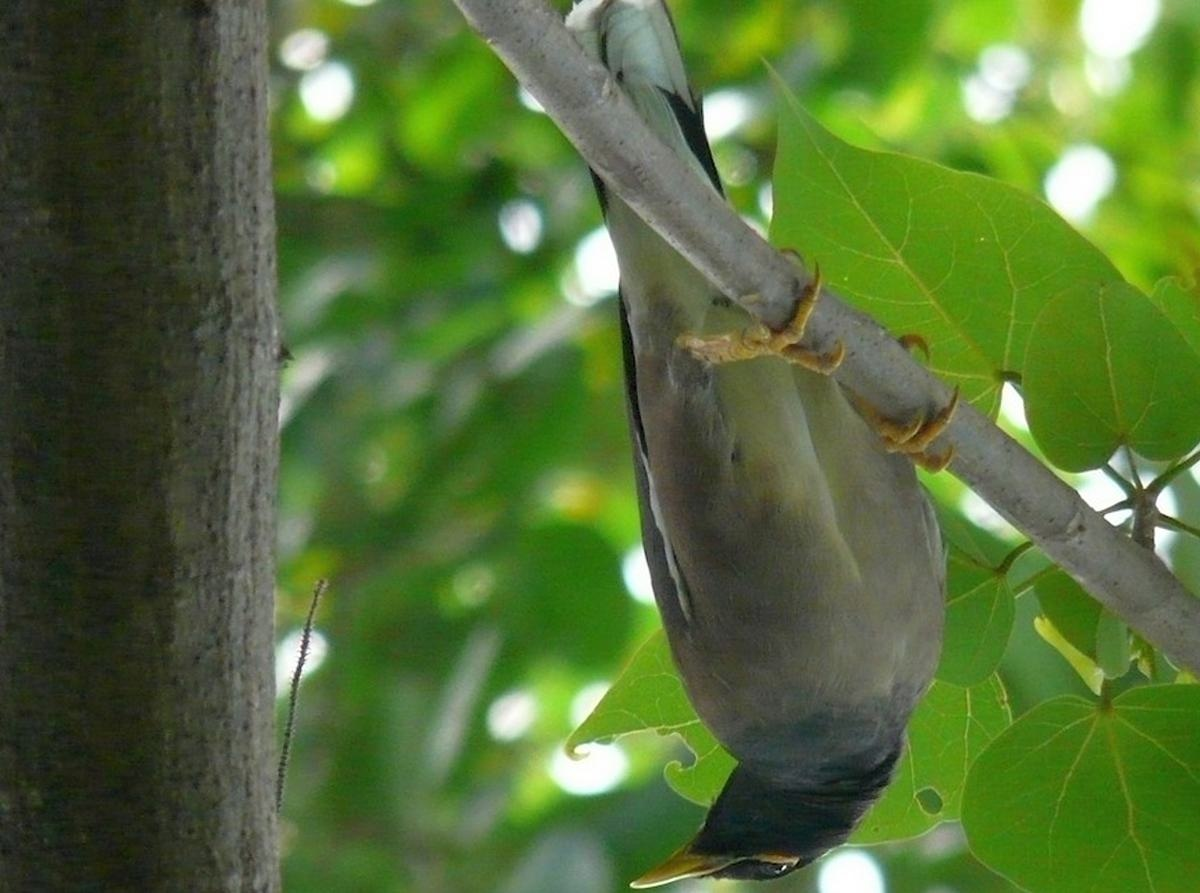myna: (561, 127, 1006, 893)
